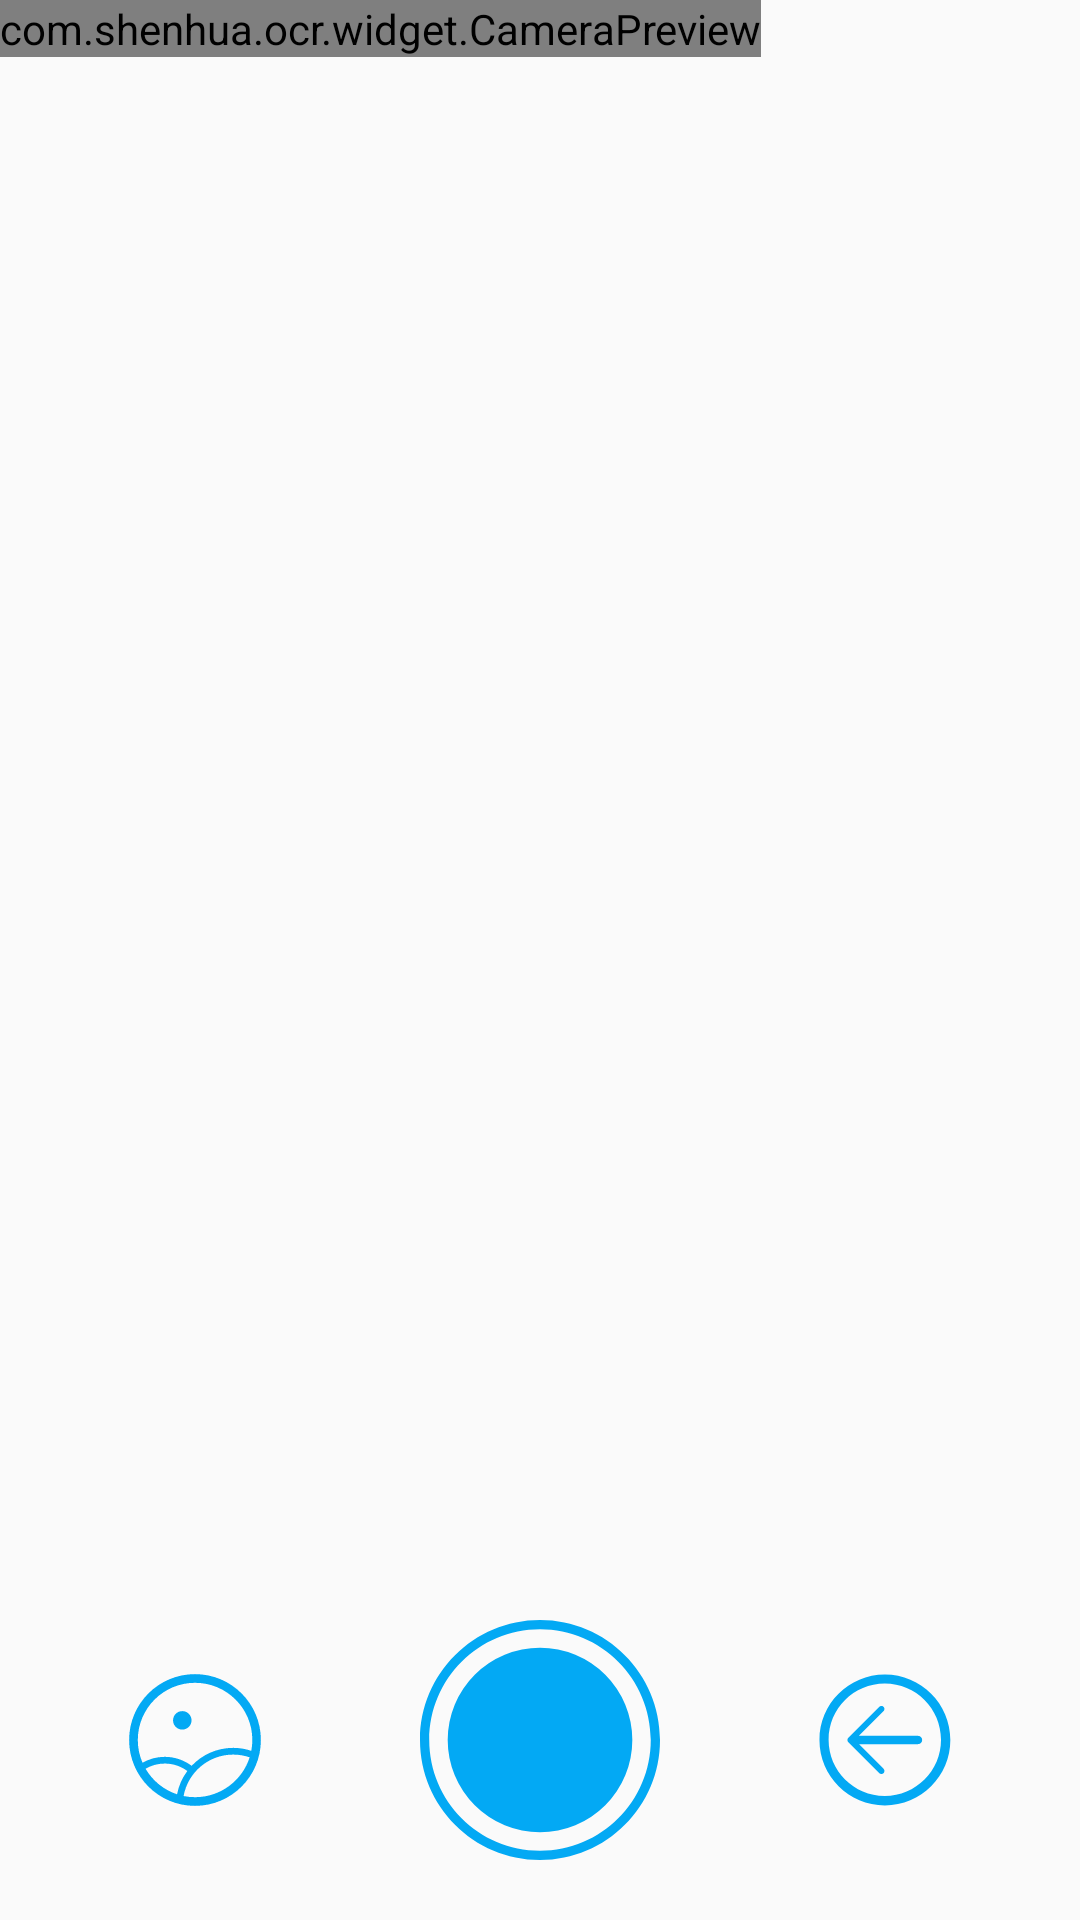

Named icons in this screenshot (1080px x 1920px) and their bounding boxes, [x1, y1, x2, y2]:
back: [819, 1674, 951, 1806]
scan album: [129, 1674, 261, 1806]
scan capture: [420, 1620, 660, 1860]
